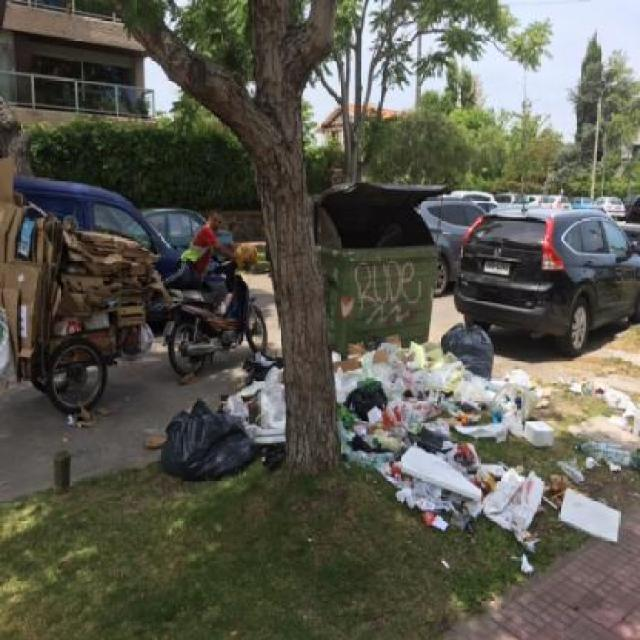garbage: (334, 336, 538, 523), (155, 348, 282, 490), (539, 457, 619, 544)
